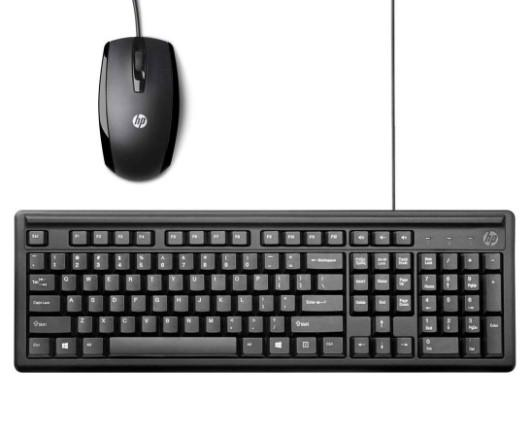Keyboard: (12, 210, 517, 375)
